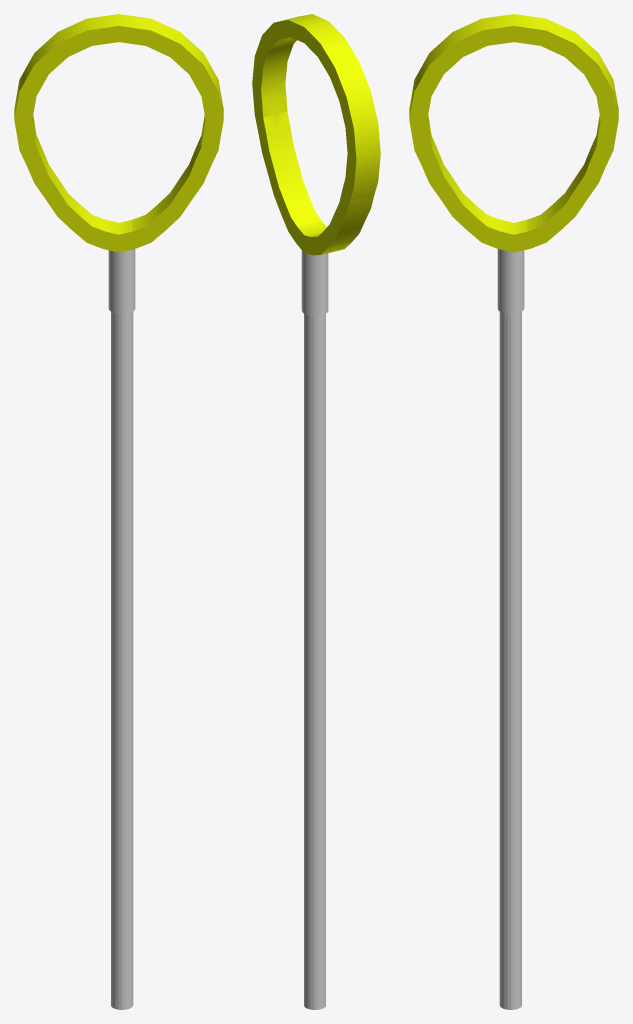
File: Stick 1.fbx
The picture shows the model from 3 angles, left to right: view 1: azimuth 90°, elevation 25°; view 2: azimuth 210°, elevation 25°; view 3: azimuth 270°, elevation 25°; orthographic projection.
Visible parts, largest first — view 1: Stick; view 2: Stick; view 3: Stick.
Part boxes in pixels (x1,y1,x2,y2): Stick: (14,14,223,1009); Stick: (252,14,380,1009); Stick: (409,14,618,1009).
Size of the model in its own units: 0.6724 by 25.98 by 5.
